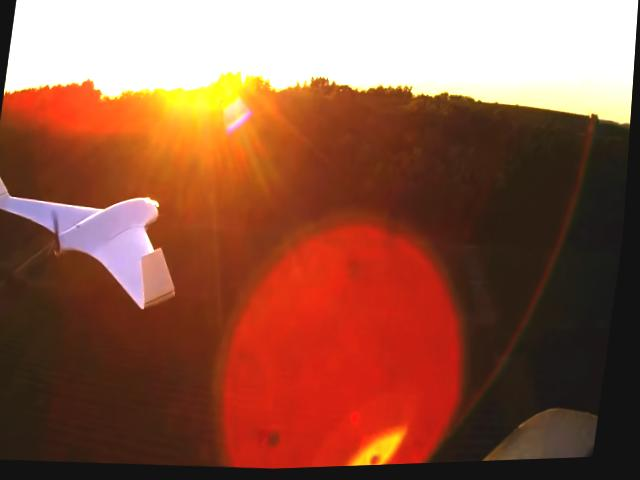plane: (0, 154, 194, 315)
